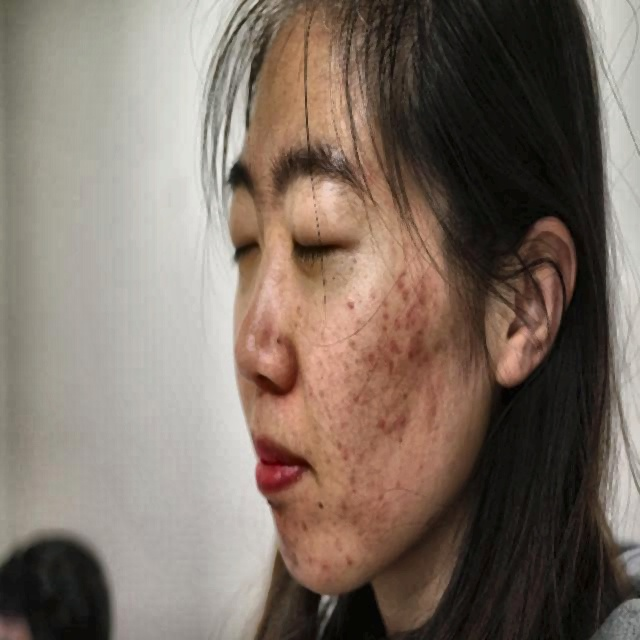papule: (404, 280, 434, 306), (338, 547, 359, 578), (397, 302, 418, 332), (407, 335, 427, 361), (322, 554, 340, 580), (375, 298, 395, 320), (292, 516, 310, 539), (306, 554, 321, 580), (383, 362, 403, 380), (377, 317, 394, 338), (390, 276, 406, 298), (338, 296, 356, 315), (421, 381, 433, 403), (376, 412, 386, 434), (368, 344, 378, 362), (391, 408, 402, 423), (400, 263, 408, 283), (386, 342, 395, 359)
